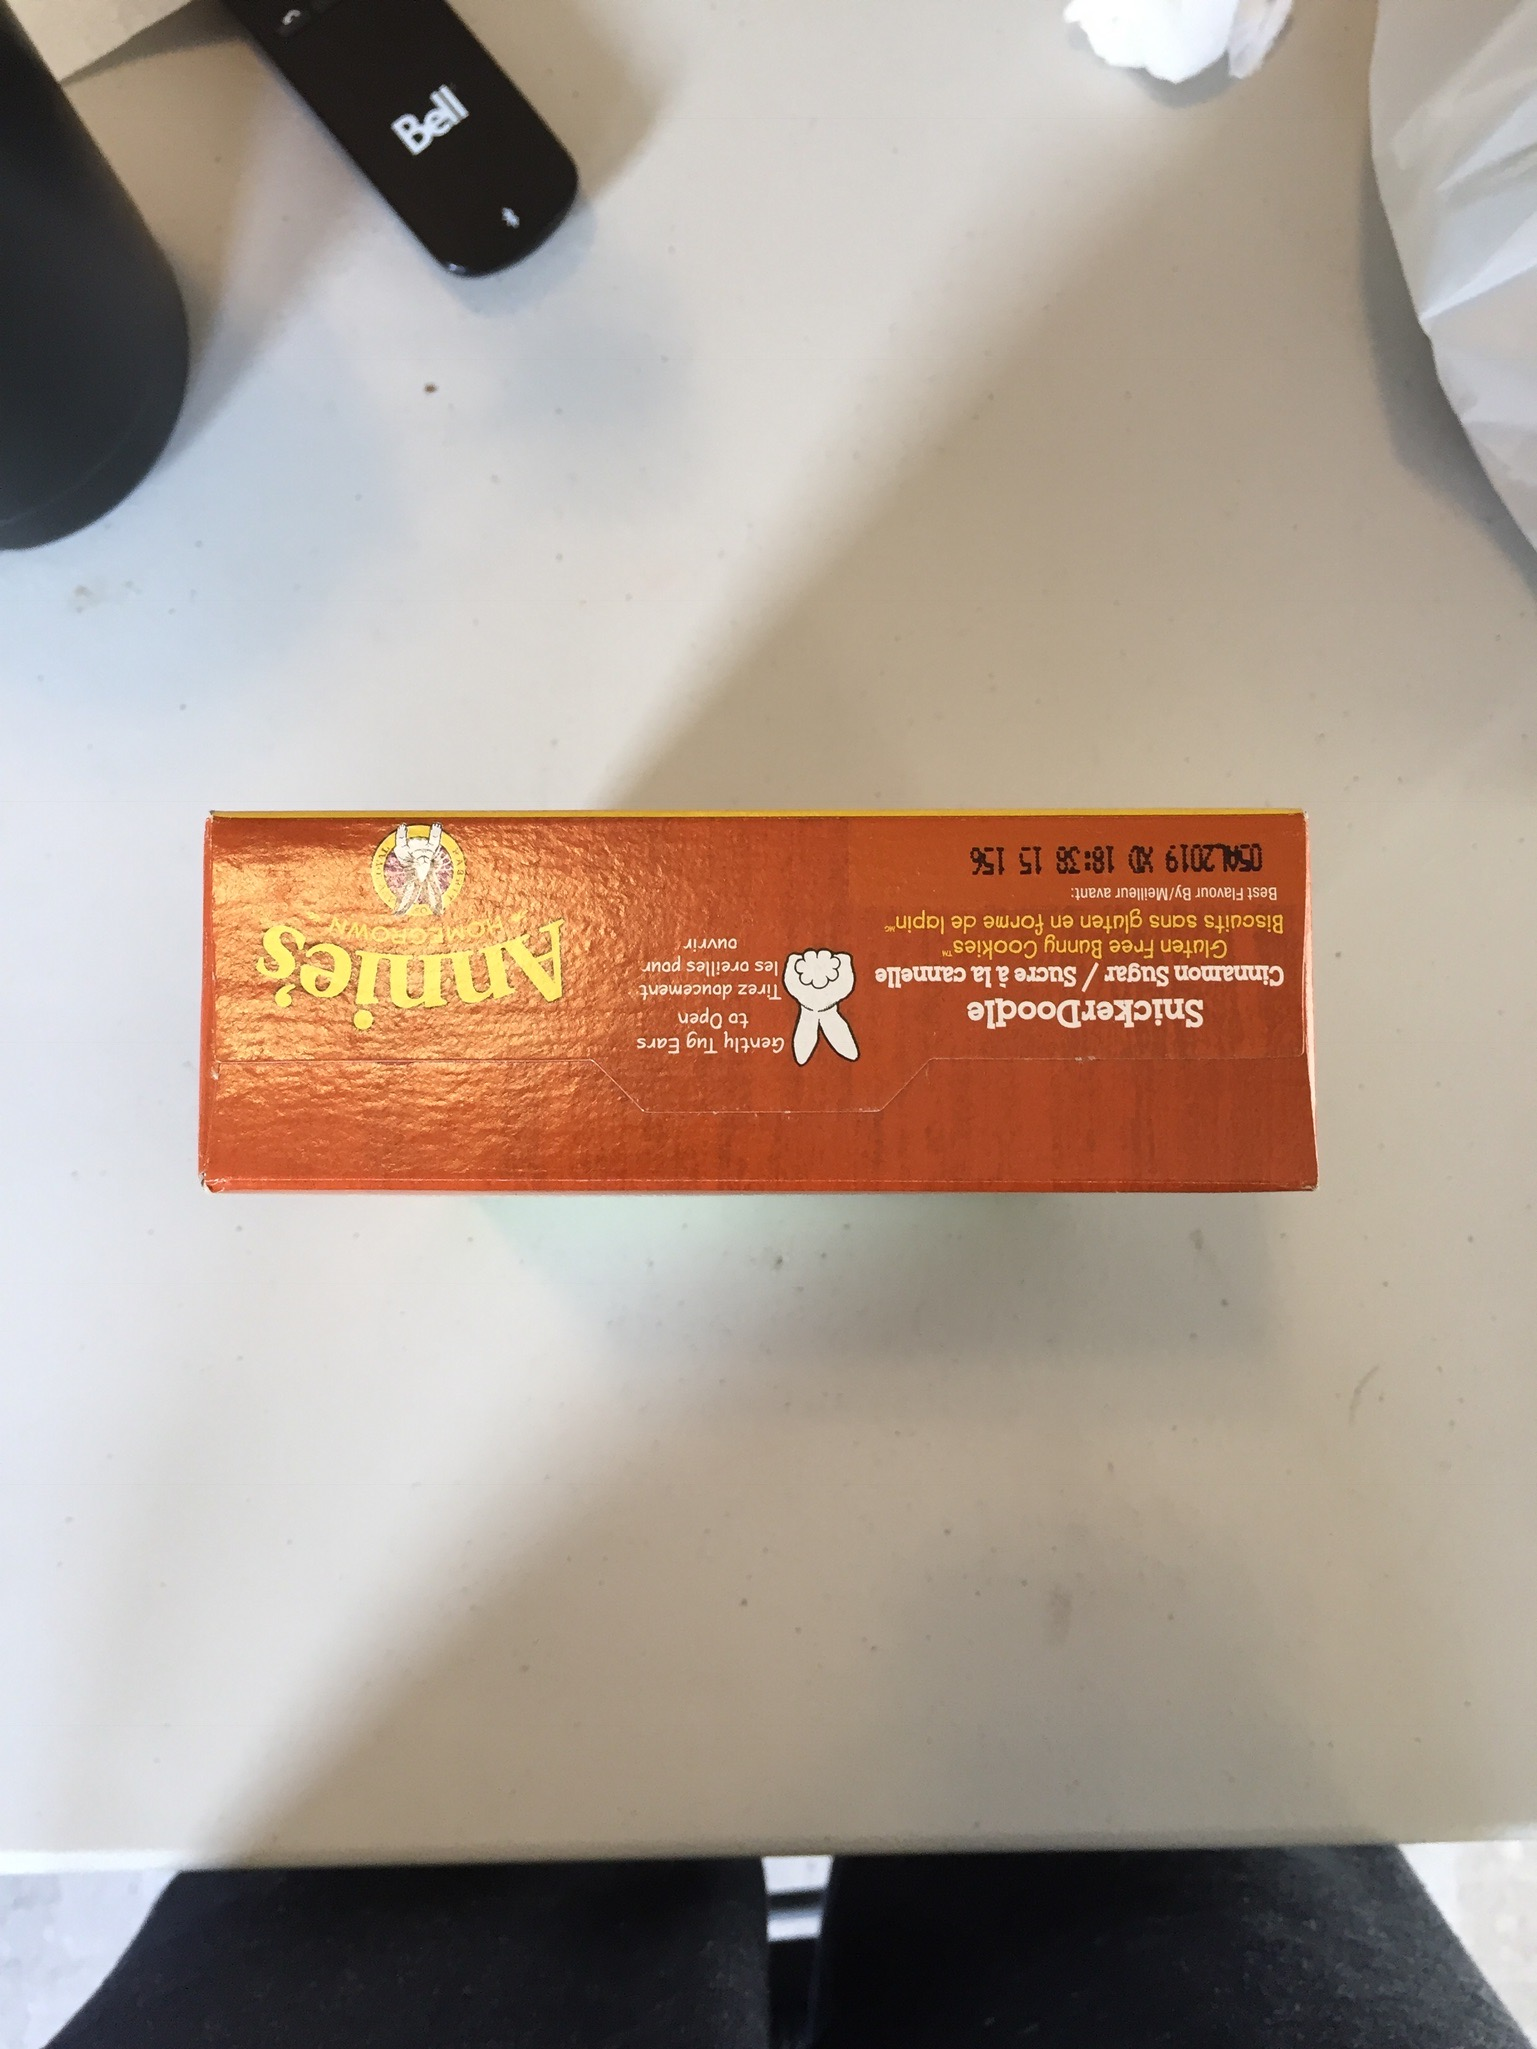annies_snickerdoodle_cinnamon_sugar: (215, 819, 1308, 1193)
